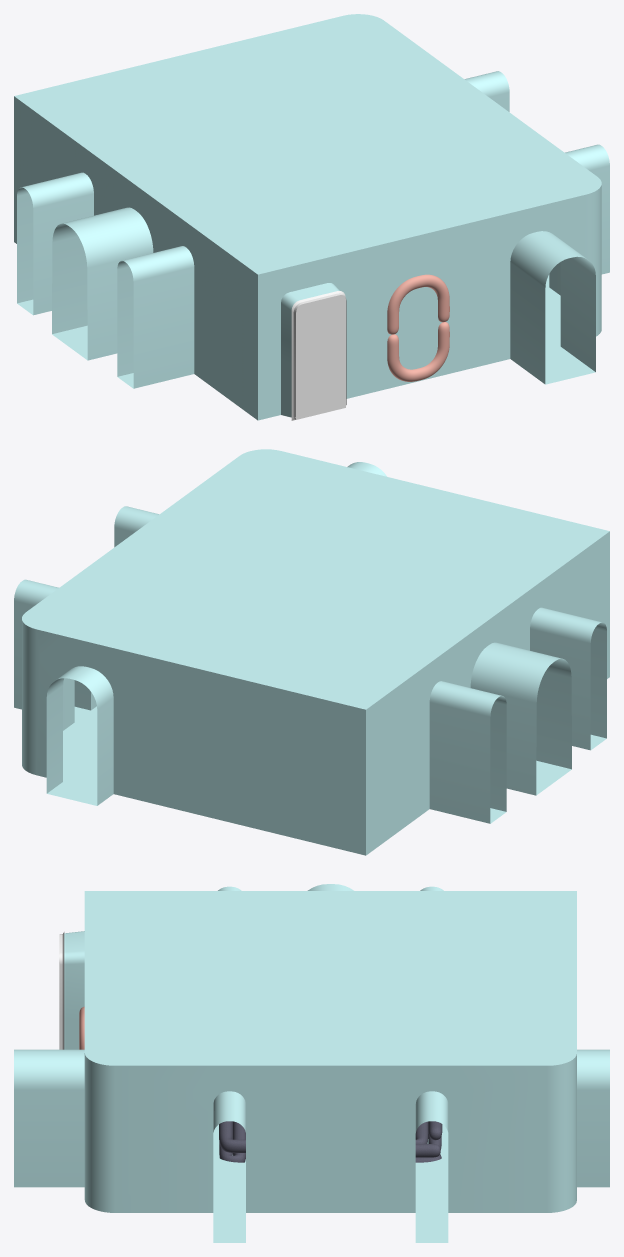
Rendered from pieceentiere.gltf.
3 views of the same model, one above another, from view 1: azimuth 30°, elevation 25°; view 2: azimuth 150°, elevation 25°; view 3: azimuth 270°, elevation 25° (orthographic).
Visible parts, largest first — view 1: pièxe, frame mirror; view 2: pièxe; view 3: pièxe, canapé .001, canapé.
Boxes of the visible parts, box(x1,y1,x2,y2) form: pièxe: box(14, 14, 609, 420); frame mirror: box(387, 274, 449, 381); pièxe: box(14, 449, 609, 855); pièxe: box(14, 884, 609, 1242); canapé .001: box(219, 1121, 245, 1162); canapé: box(415, 1121, 442, 1162).
Size of the model in its own units: 18.99 by 6.45 by 20.16.
